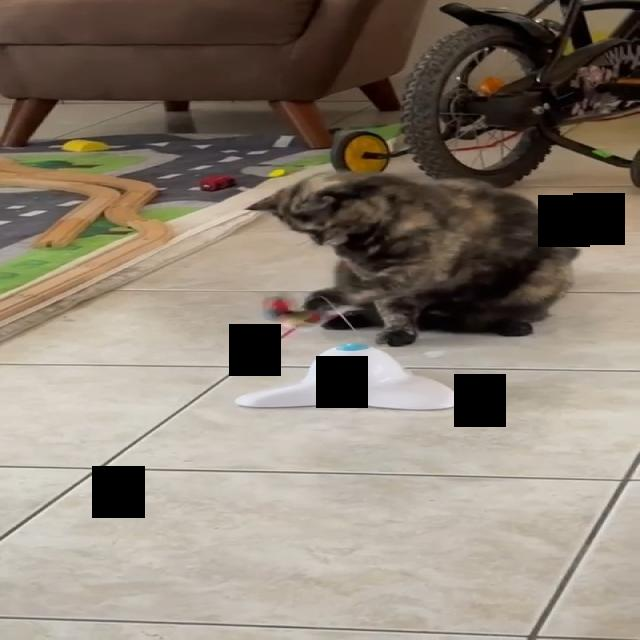authorized: (244, 170, 580, 346)
